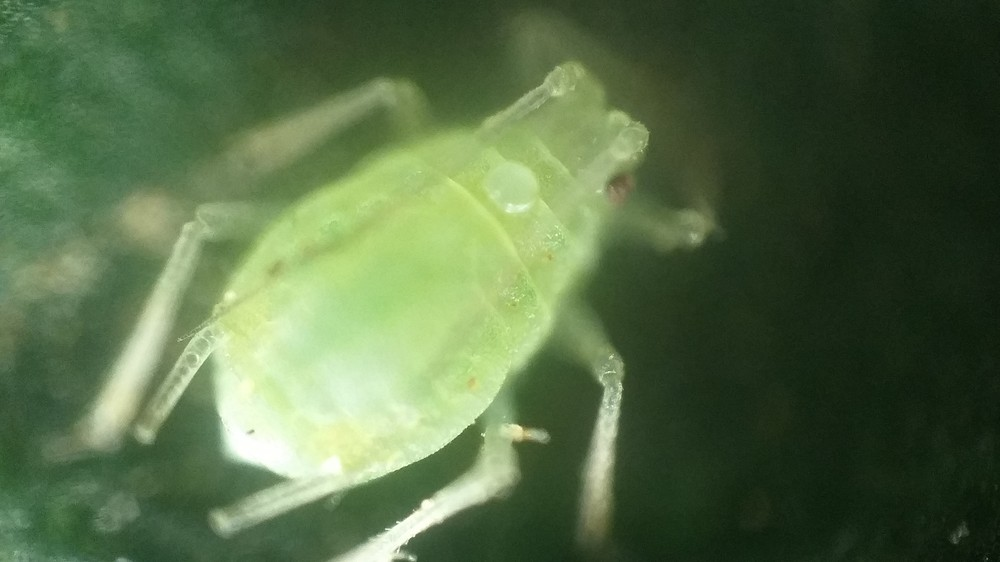Pulgon: (81, 21, 752, 558)
